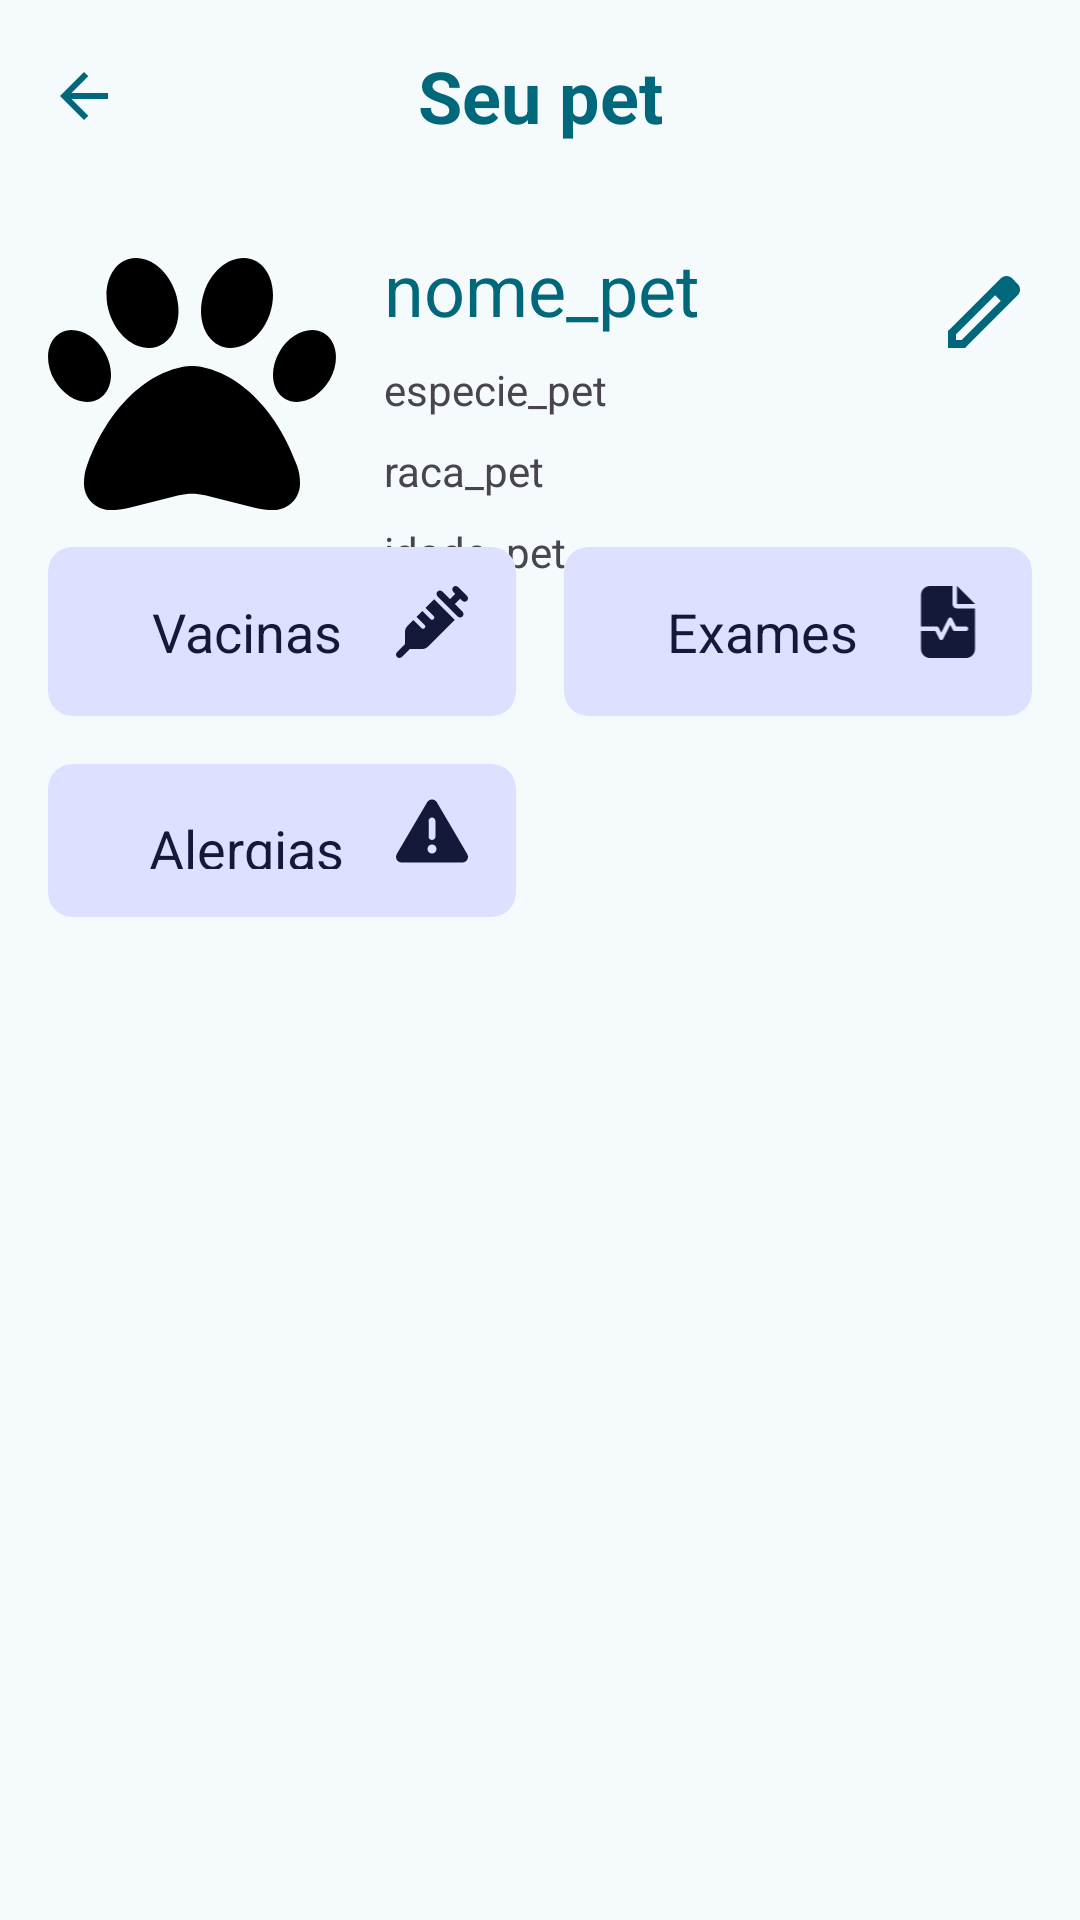

Where to tap for icons on this 1080*1920 app screen, as (x,y):
alerta: (432,831)
arrow back: (84,96)
edit: (984,312)
file waveform: (948,622)
paw: (192,384)
siringa: (432,622)
